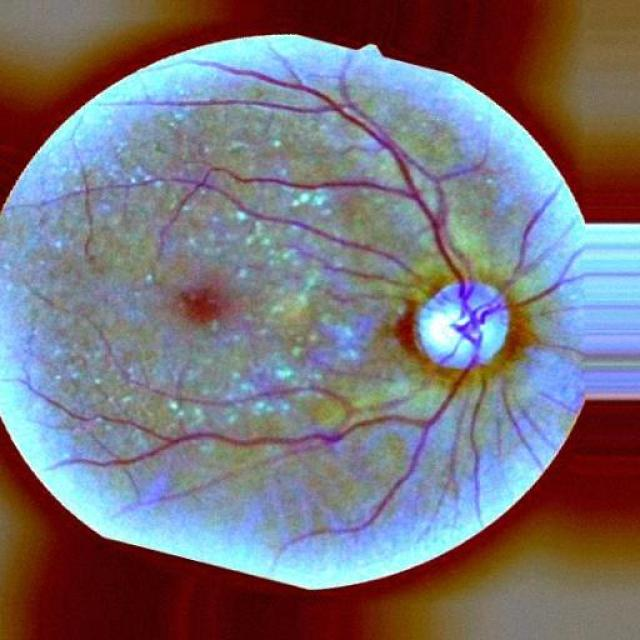Macula: (174, 282, 229, 344)
Nerves: (92, 366, 471, 564), (212, 90, 468, 291), (50, 177, 451, 302)
Optic Disk: (414, 275, 517, 374)
